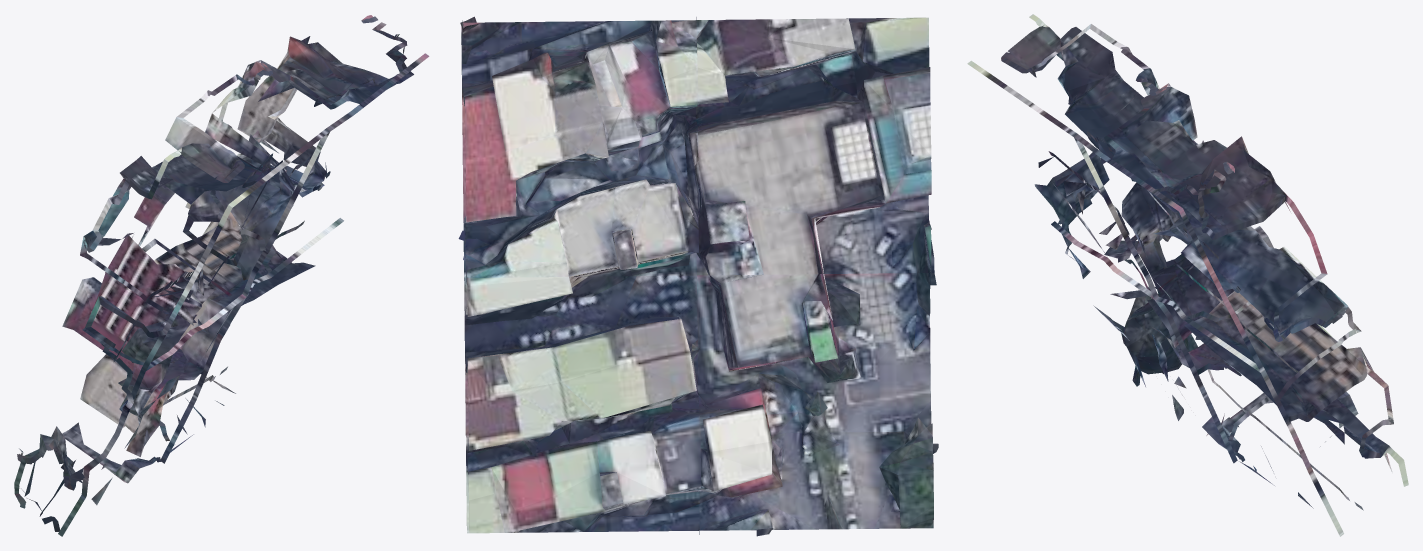
3 views of the same model, side by side, from view 1: azimuth 30°, elevation 25°; view 2: azimuth 150°, elevation 25°; view 3: azimuth 270°, elevation 25° (orthographic). The views are drawn at different scales.
Bounding box in the file's own units: 81.19 × 77.48 × 75.18.
Materials: 1 (1 with a texture image).
